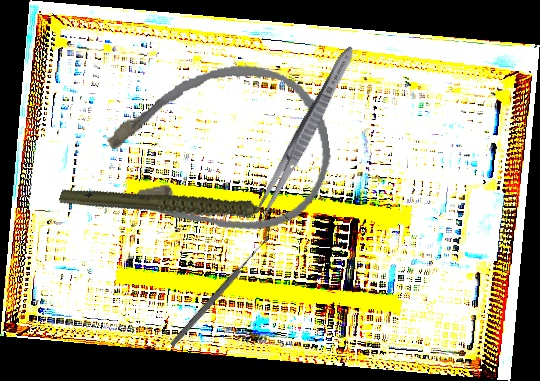Cannula: (84, 54, 340, 251)
Dressing Forceps: (249, 42, 360, 227)
Handpiece: (57, 141, 292, 275)
Surgical Spoon: (168, 235, 272, 349)
